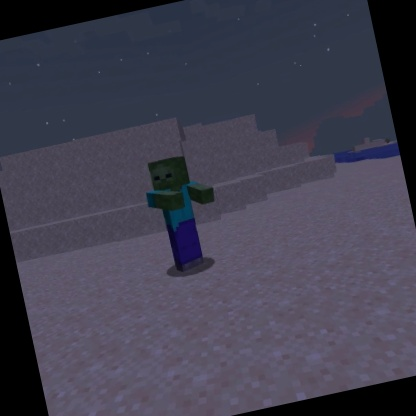zombie: (135, 146, 234, 280)
